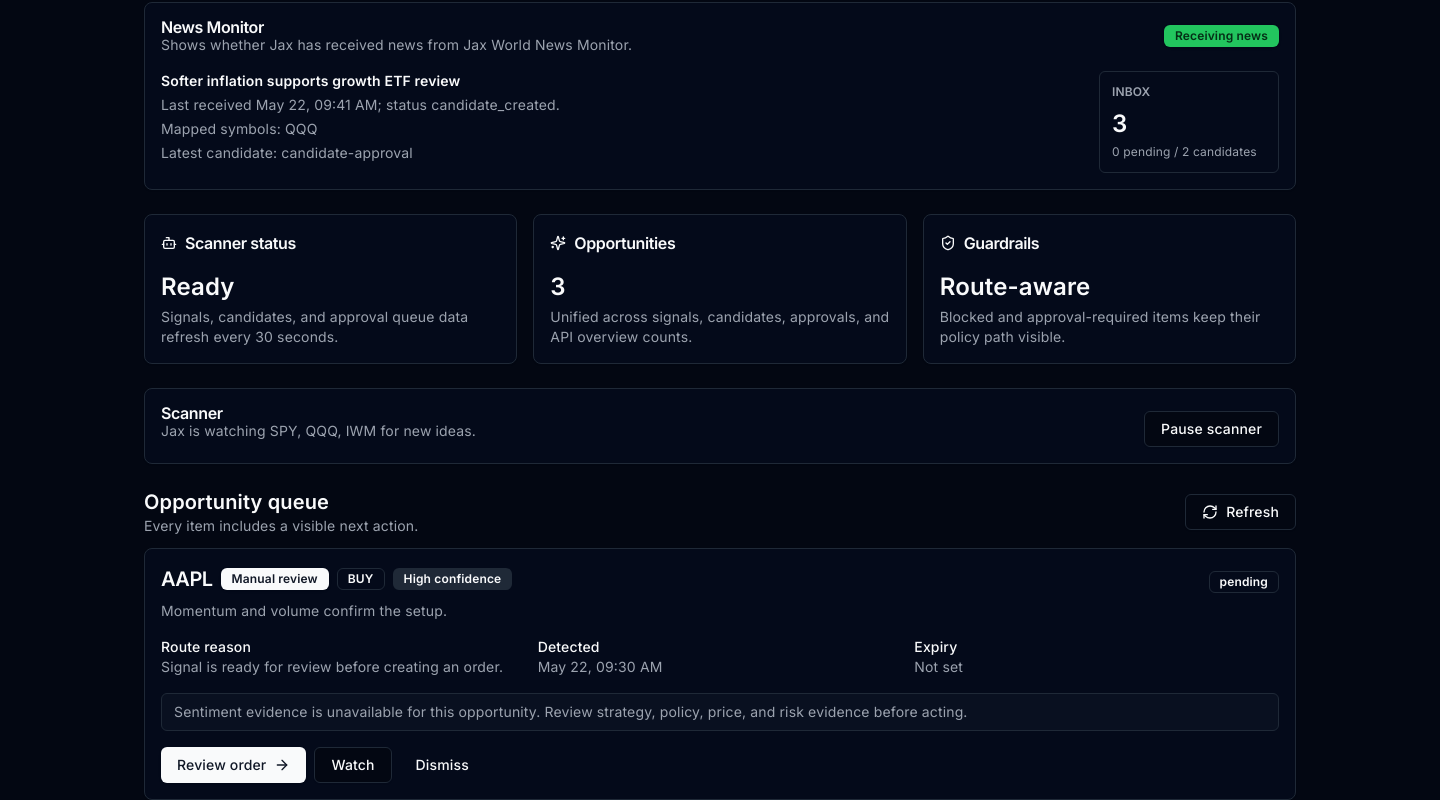
Test: AiTradingPage › lets operators watch and dismiss opportunities locally
(page scrolled)
Expected: the heading "AAPL" is shown, x1=161 y1=565 x2=213 y2=593
What coordinates should you click on to do the following:
click the button "Watch"
I would click on:
 (353, 765)
Its box is x1=314 y1=747 x2=392 y2=783.
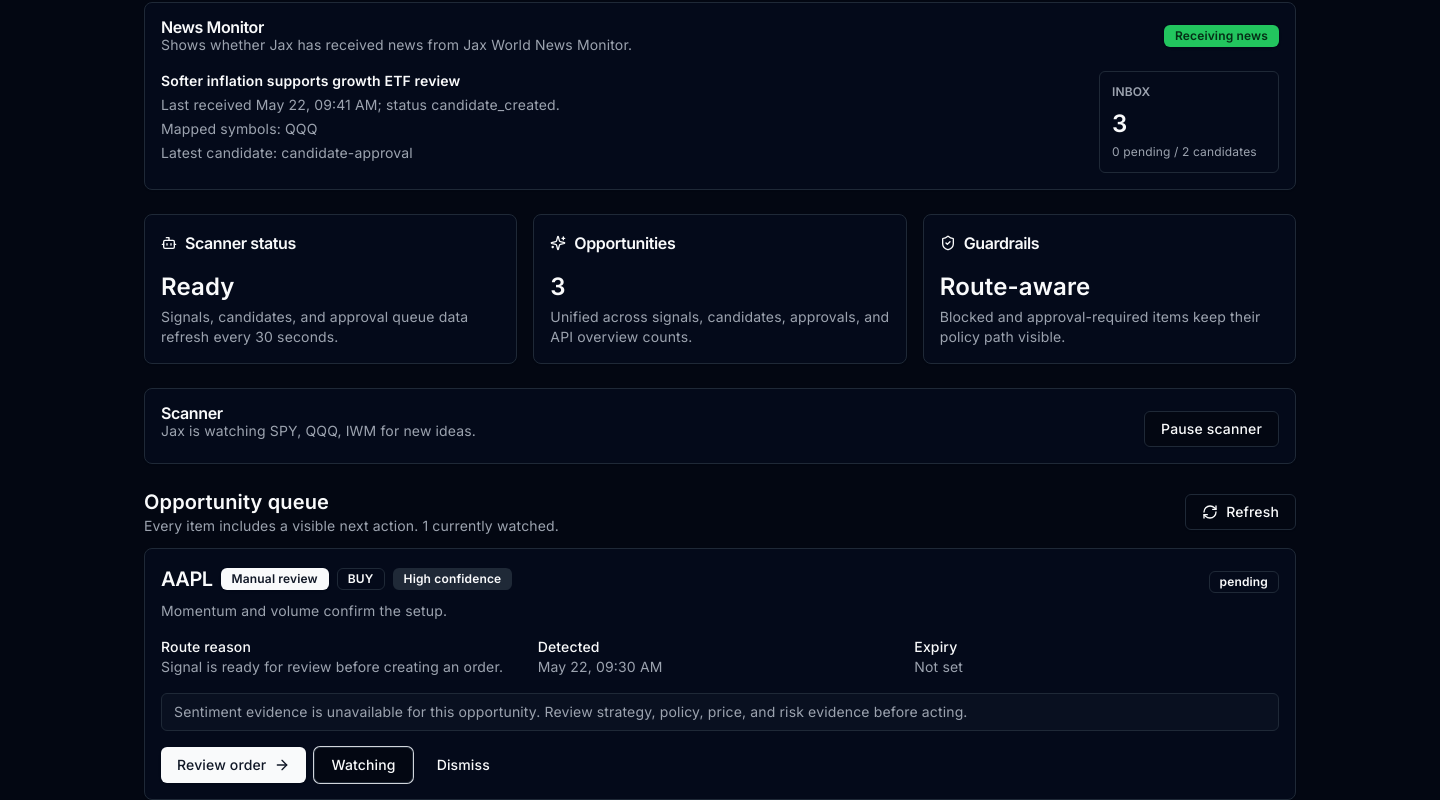
Now the button "Watching" is shown, box x1=314 y1=747 x2=413 y2=783
What coordinates should you click on to do the following:
click the button "Dismiss"
I would click on:
 (463, 765)
Its box is x1=421 y1=747 x2=506 y2=783.
(page scrolled)
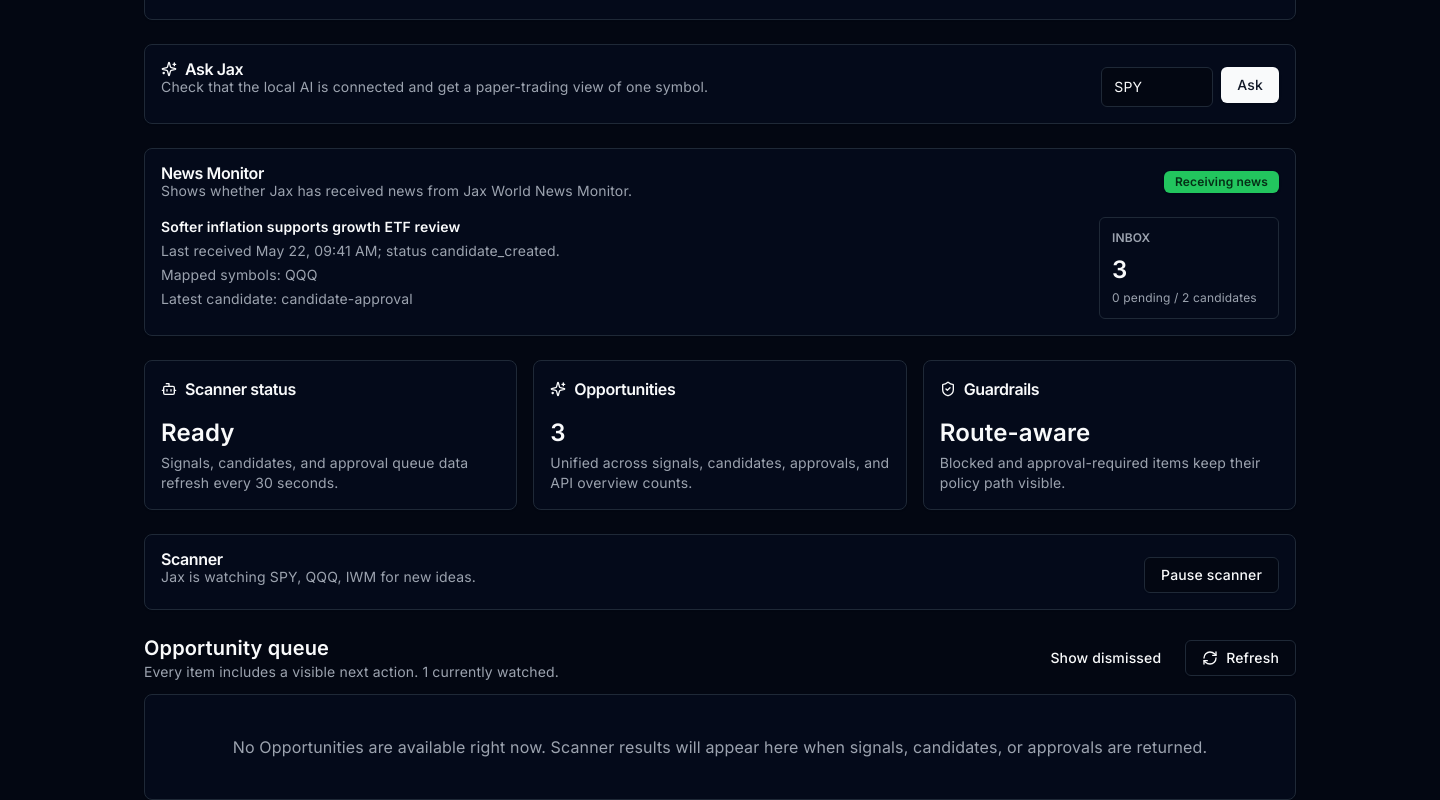
Now the heading "AAPL" is gone
Now the button "Show dismissed" is shown
What coordinates should you click on to do the following:
click the button "Show dismissed"
I would click on:
 (1106, 658)
Its box is x1=1034 y1=640 x2=1177 y2=676.
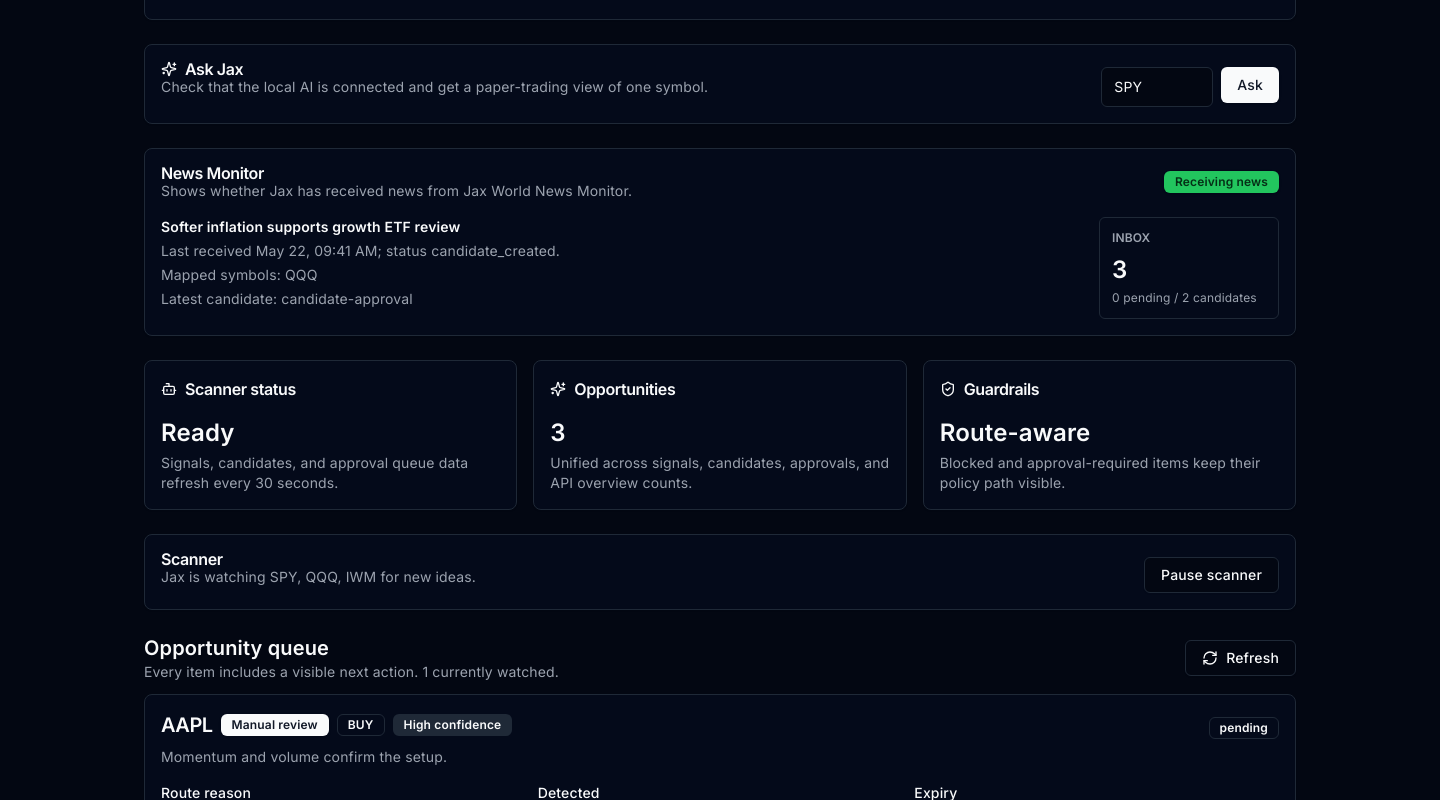
Now the heading "AAPL" is shown, box x1=161 y1=711 x2=213 y2=739
